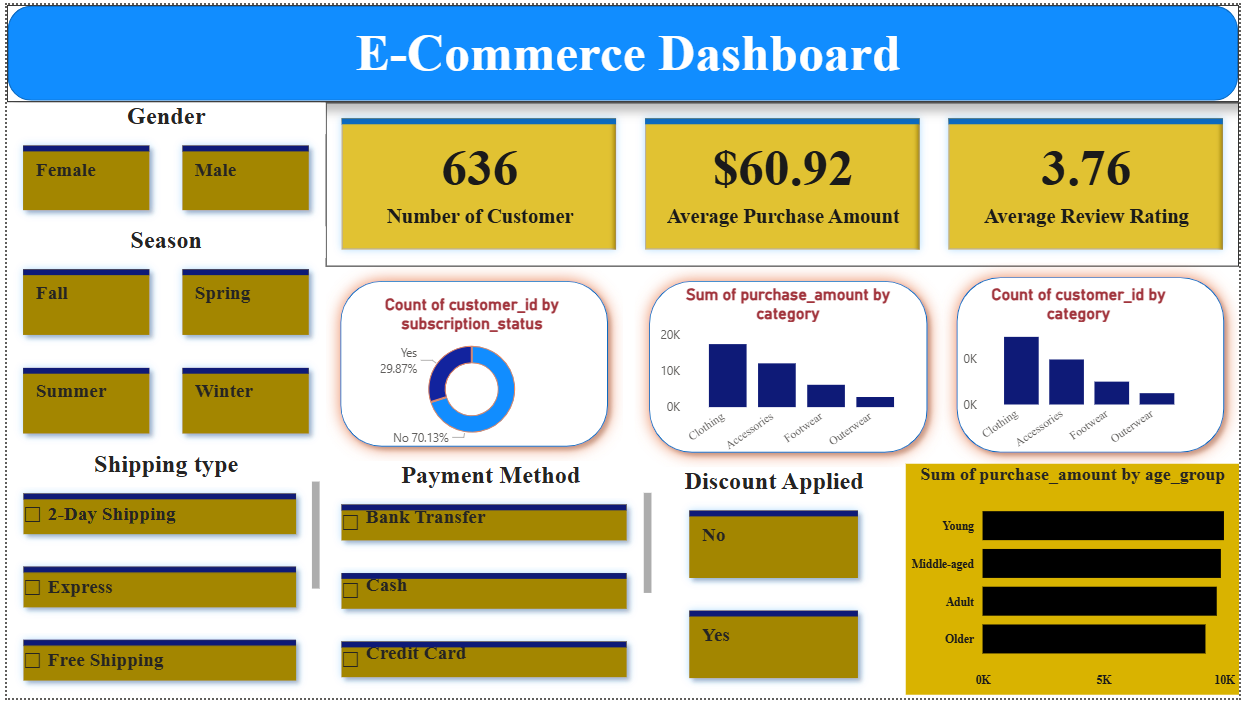

What the dashboard file says about the page in this screenshot:
{"tool":"powerbi","page":{"name":"Page 1","canvas":[1280,720],"ordinal":0},"visuals":[{"type":"cardVisual","fields":{"Data":["update_shopping.Number of Customer","update_shopping.Average Purchase Amount","update_shopping.Average Review Rating"]},"box":[330.9,100.8,949.1,170.4],"z":0},{"type":"shape","box":[0,0,1280,100.8],"z":1000},{"type":"textbox","box":[262.5,13.7,766.3,70.9],"z":2000},{"type":"shape","box":[330.9,271.2,308.5,202.8],"z":3000},{"type":"donutChart","fields":{"Category":["update_shopping.subscription_status"],"Y":["Count(update_shopping.customer_id)"]},"box":[363.2,301,238.8,161.7],"z":4000},{"type":"shape","box":[651.8,271.2,319.7,209],"z":5000},{"type":"shape","box":[971.5,267.5,308.5,212.7],"z":6000},{"type":"clusteredColumnChart","fields":{"Category":["update_shopping.category"],"Y":["Sum(update_shopping.purchase_amount)"]},"box":[674.2,291.1,274.9,189.1],"z":7000},{"type":"clusteredColumnChart","fields":{"Category":["update_shopping.category"],"Y":["Count(update_shopping.customer_id)"]},"box":[987.7,291.1,250,185.3],"z":8000},{"type":"shape","box":[0,18.7,330.9,701.6],"z":9000},{"type":"advancedSlicerVisual","title":"Season","fields":{"Values":["update_shopping.season"]},"box":[0,230.1,330.9,232.6],"z":10000},{"type":"advancedSlicerVisual","title":"Gender","fields":{"Values":["update_shopping.gender"]},"box":[0,100.8,330.9,129.4],"z":11000},{"type":"listSlicer","title":"Shipping type","fields":{"Values":["update_shopping.shipping_type"]},"box":[0,462.8,330.9,257.5],"z":12000},{"type":"clusteredBarChart","fields":{"Category":["update_shopping.age_group"],"Y":["Sum(update_shopping.purchase_amount)"]},"box":[933.3,476.4,347.2,240.3],"z":13000},{"type":"listSlicer","title":"Payment Method","fields":{"Values":["update_shopping.payment_method"]},"box":[330.6,473.6,343.1,243.1],"z":14000},{"type":"advancedSlicerVisual","title":"Discount Applied","fields":{"Values":["update_shopping.discount_applied"]},"box":[691.7,480.6,209.7,236.1],"z":15000}]}

Visuals, with their boxes in screenshot pixels (x1, y1, x2, y2), scaled from the page's 1280x720 canvas onto the 1255x703 screenshot:
cardVisual - update_shopping.Number of Customer x update_shopping.Average Purchase Amount: <region>324, 98, 1254, 265</region>
shape: <region>0, 0, 1254, 98</region>
textbox: <region>257, 13, 1009, 83</region>
shape: <region>324, 265, 627, 463</region>
donutChart - update_shopping.subscription_status x Count(update_shopping.customer_id): <region>356, 294, 590, 452</region>
shape: <region>639, 265, 953, 469</region>
shape: <region>953, 261, 1254, 469</region>
clusteredColumnChart - update_shopping.category x Sum(update_shopping.purchase_amount): <region>661, 284, 931, 469</region>
clusteredColumnChart - update_shopping.category x Count(update_shopping.customer_id): <region>968, 284, 1214, 465</region>
shape: <region>0, 18, 324, 702</region>
"Season" advancedSlicerVisual: <region>0, 225, 324, 452</region>
"Gender" advancedSlicerVisual: <region>0, 98, 324, 225</region>
"Shipping type" listSlicer: <region>0, 452, 324, 702</region>
clusteredBarChart - update_shopping.age_group x Sum(update_shopping.purchase_amount): <region>915, 465, 1254, 700</region>
"Payment Method" listSlicer: <region>324, 462, 661, 700</region>
"Discount Applied" advancedSlicerVisual: <region>678, 469, 884, 700</region>
